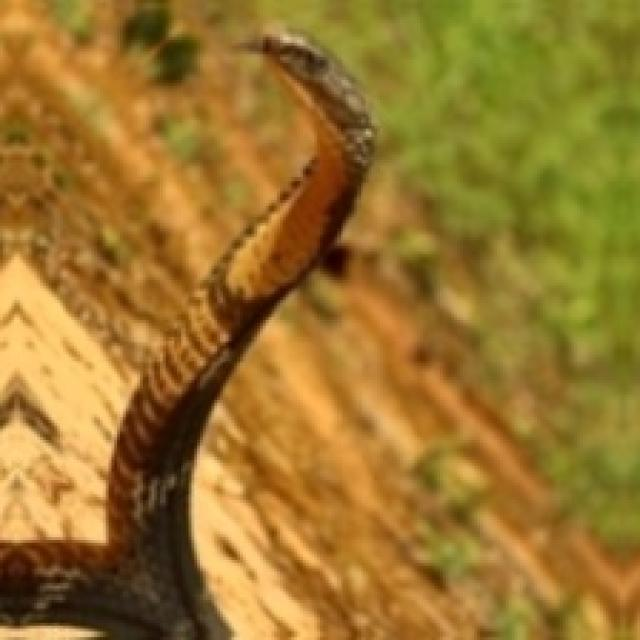king cobra: (0, 6, 371, 637)
